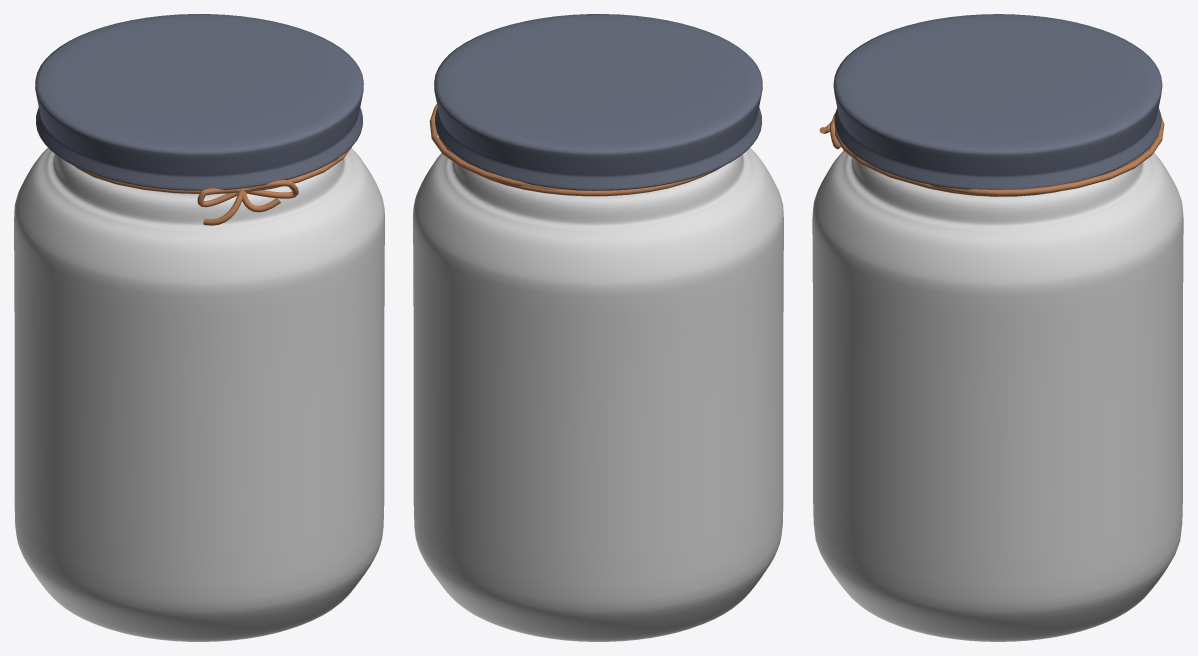
The model's file is Jam Jar.fbx.
3 views of the same model, side by side, from view 1: azimuth 30°, elevation 25°; view 2: azimuth 150°, elevation 25°; view 3: azimuth 270°, elevation 25° (orthographic).
Visible parts, largest first — view 1: jar, lid, rope; view 2: jar, lid, rope; view 3: jar, lid, rope.
Boxes of the visible parts, bbox=[...] form: jar: bbox=[14, 148, 384, 641]; lid: bbox=[35, 14, 363, 190]; rope: bbox=[75, 147, 351, 225]; jar: bbox=[413, 148, 783, 641]; lid: bbox=[434, 14, 762, 190]; rope: bbox=[429, 104, 721, 196]; jar: bbox=[812, 150, 1183, 641]; lid: bbox=[833, 14, 1162, 189]; rope: bbox=[819, 114, 1164, 196].
Size of what is drawn, in the model's own units: 169 by 259 by 169.
